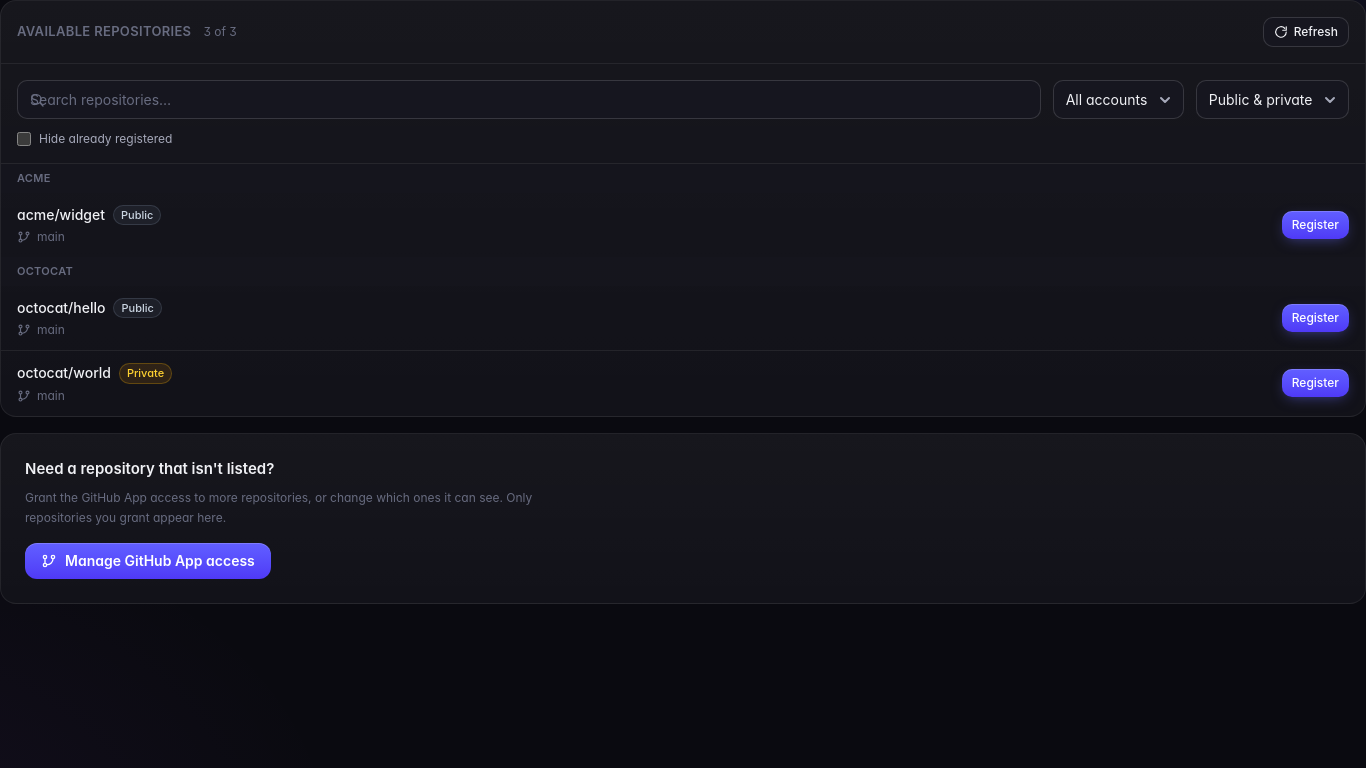
it: RepoPicker filtering › filters by account
Select "acme" in the 1st dropdown named "Filter by account" at (1118, 100), box [1053, 80, 1184, 119]
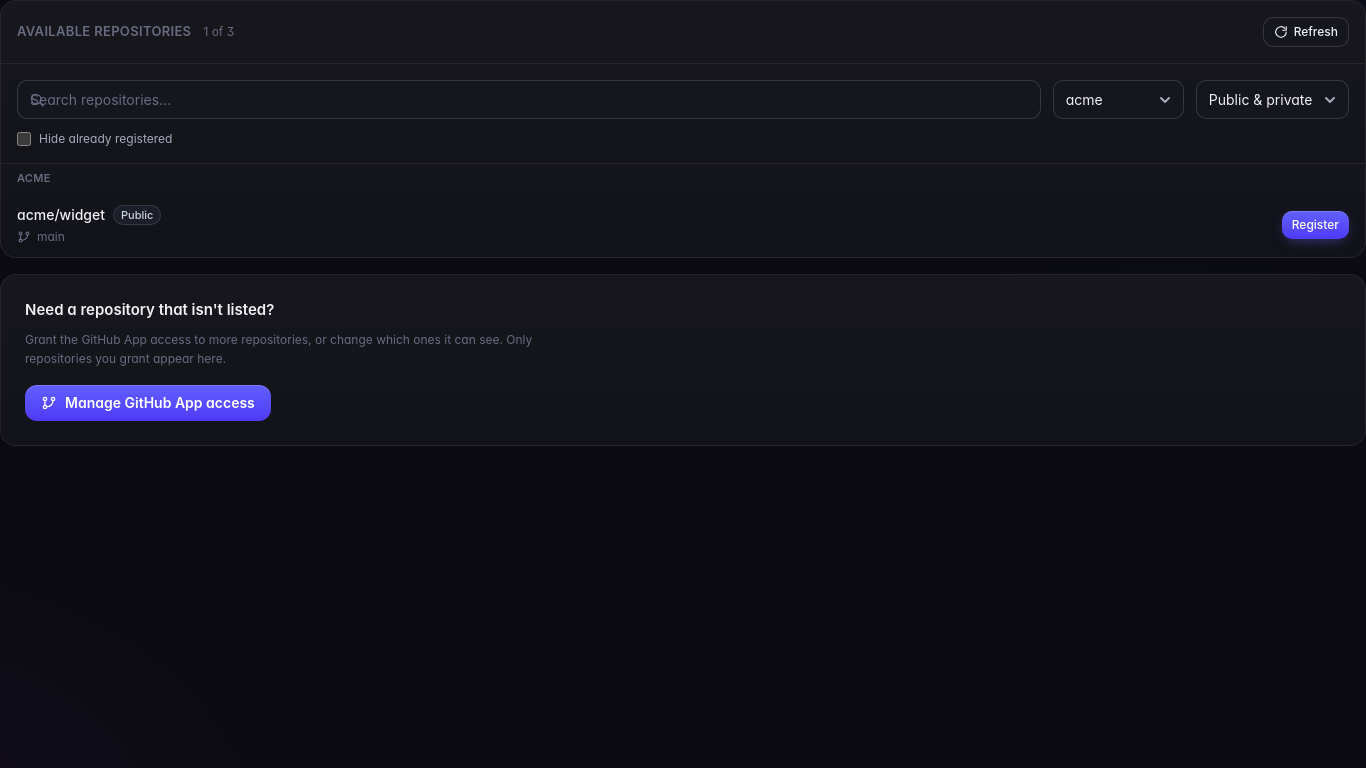
Expected: the text "acme/widget" is shown, [17, 205, 105, 225]
Expected: the text "octocat/world" is gone
